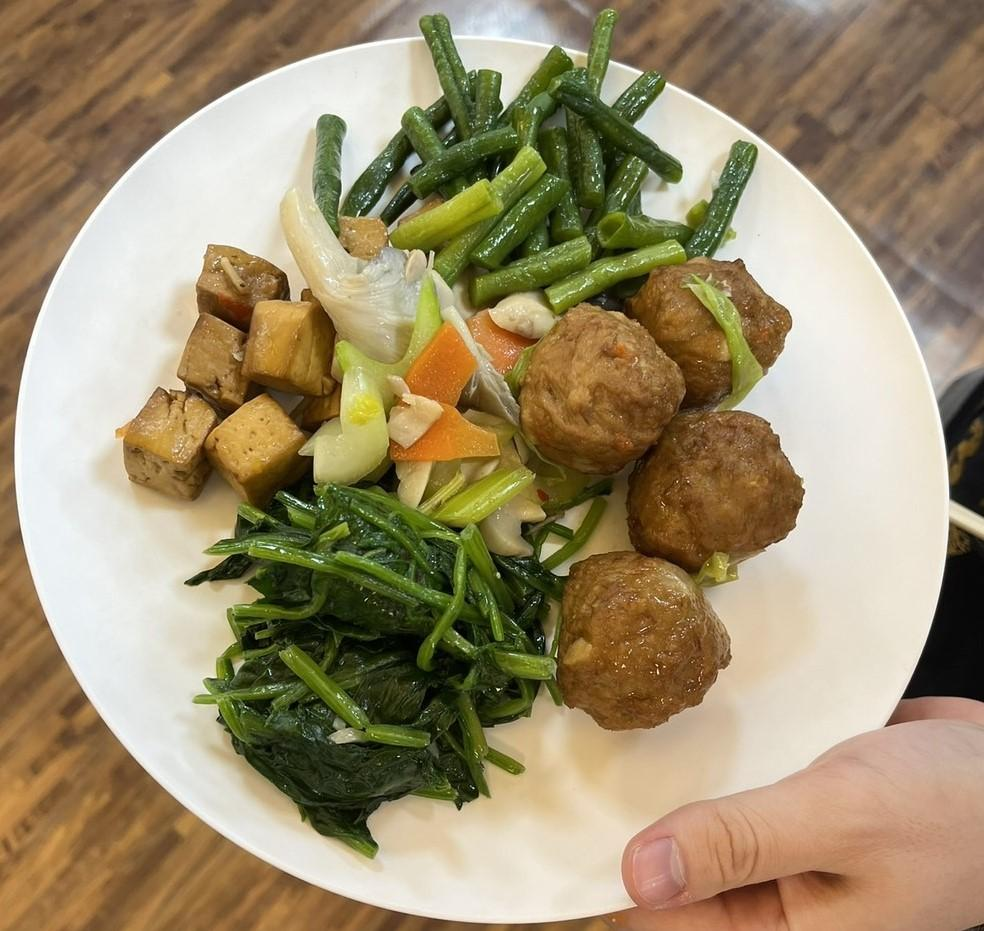big fried chicken leg: (12, 36, 959, 931)
braised fish fillet: (298, 6, 790, 311), (198, 496, 567, 863), (286, 198, 555, 514), (114, 238, 336, 505)
braised pork: (506, 252, 810, 737)
